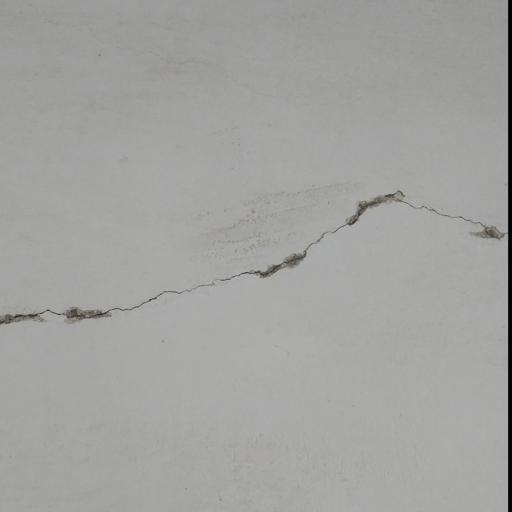major_crack: (0, 174, 509, 331)
